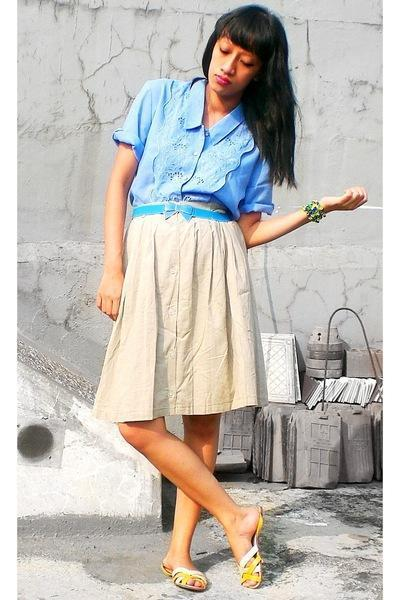shirt: (104, 76, 273, 222)
shoe: (169, 540, 272, 599)
skirt: (94, 213, 254, 430)
